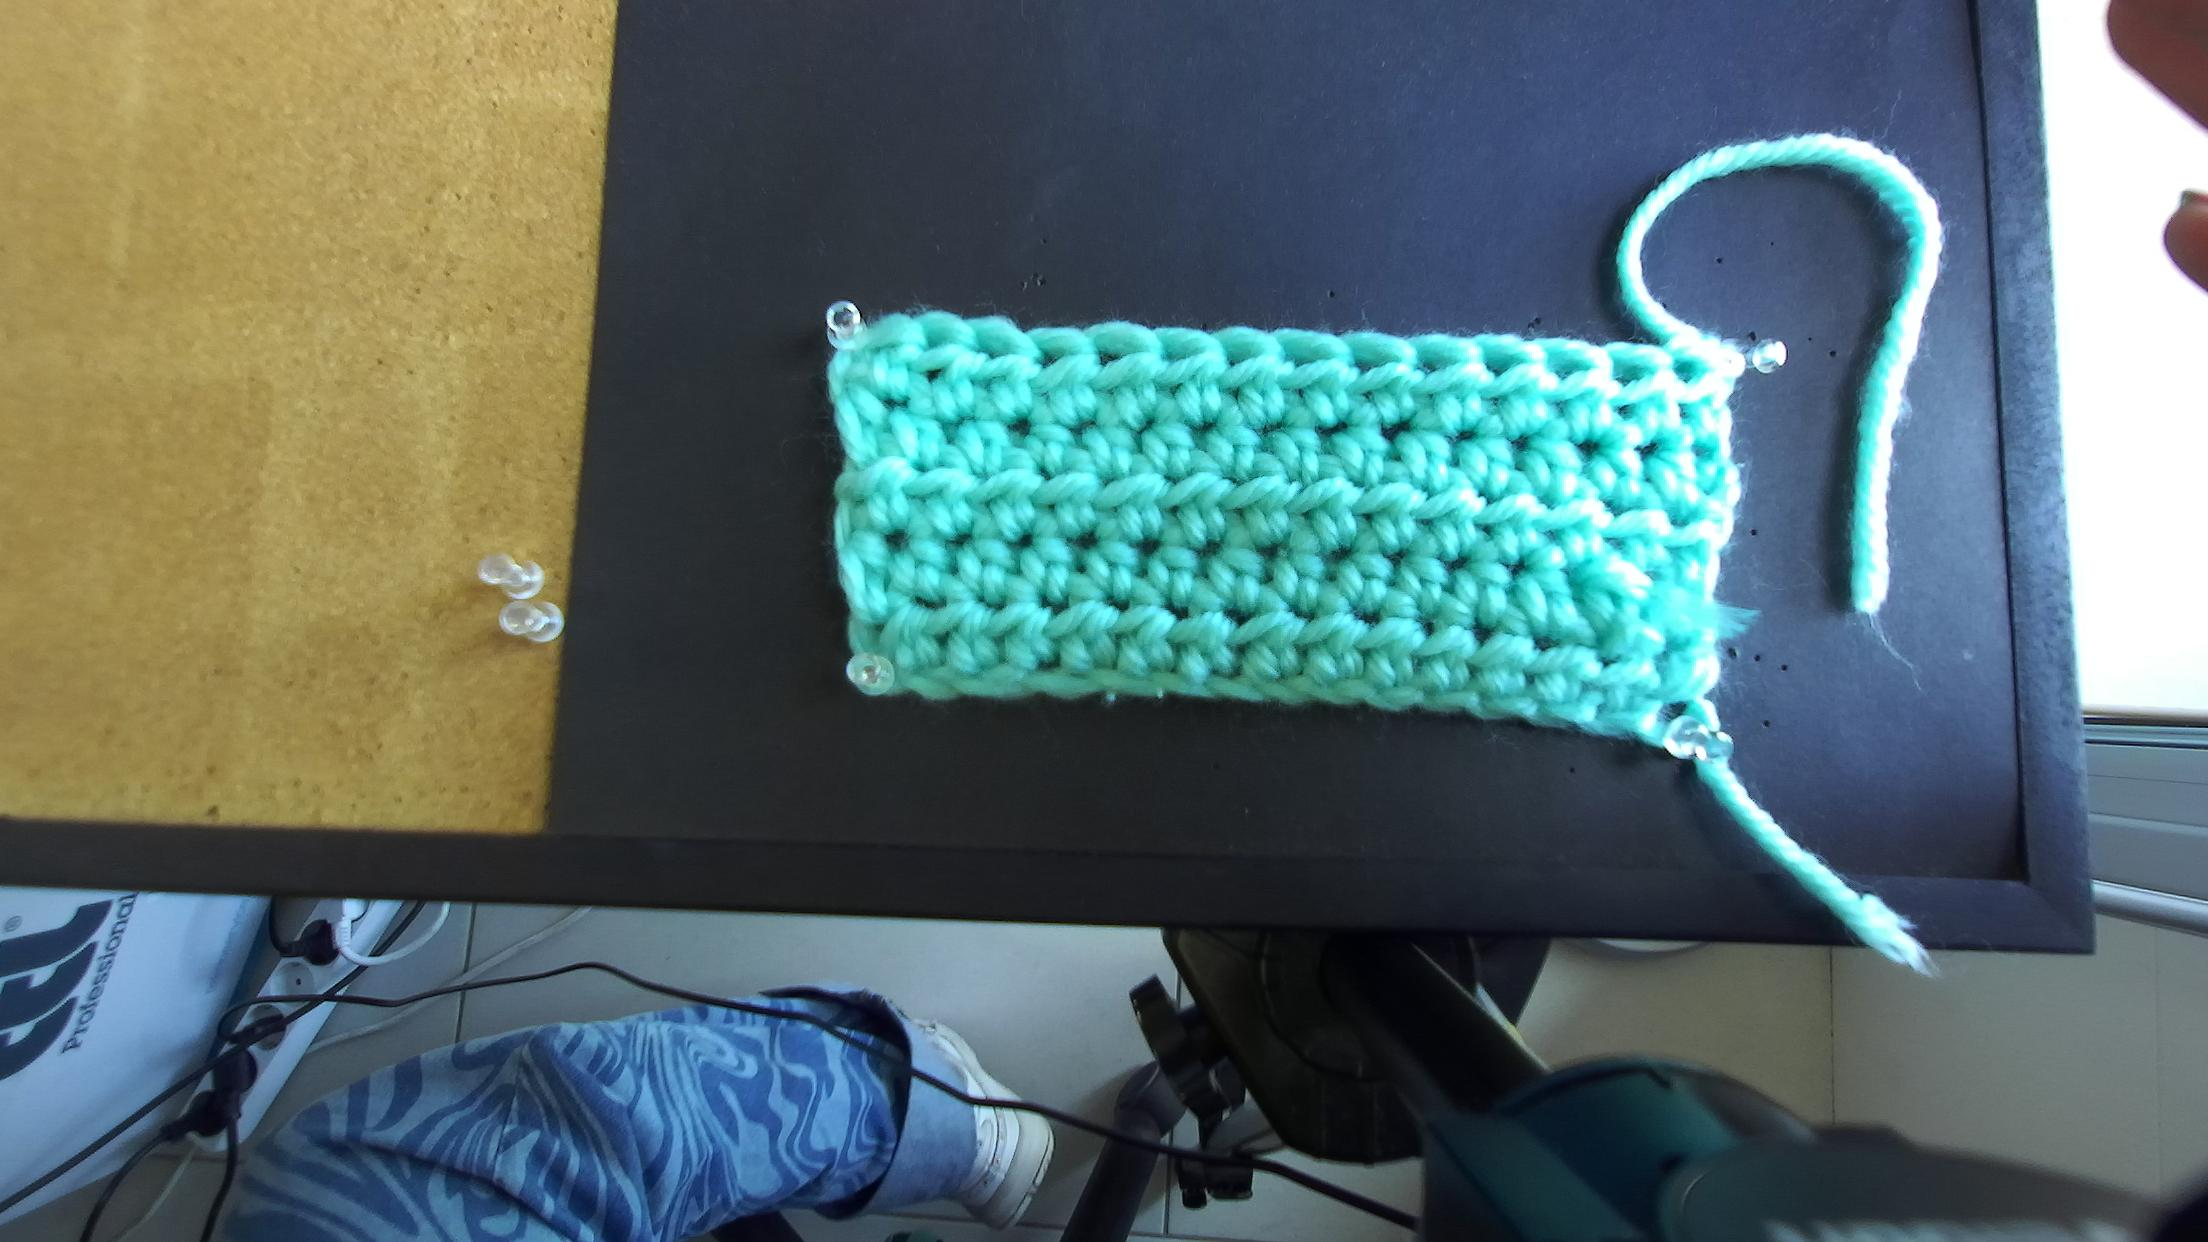hole: (1413, 350, 1466, 379), (973, 333, 1017, 362), (1546, 356, 1590, 382), (1352, 354, 1402, 375), (1610, 360, 1647, 386), (1485, 355, 1526, 377), (1035, 348, 1073, 369), (924, 331, 958, 353), (1282, 352, 1331, 366), (1159, 345, 1197, 362), (1673, 359, 1696, 384), (1098, 350, 1127, 367), (1227, 351, 1259, 366)
swatch: (825, 310, 1740, 768)
